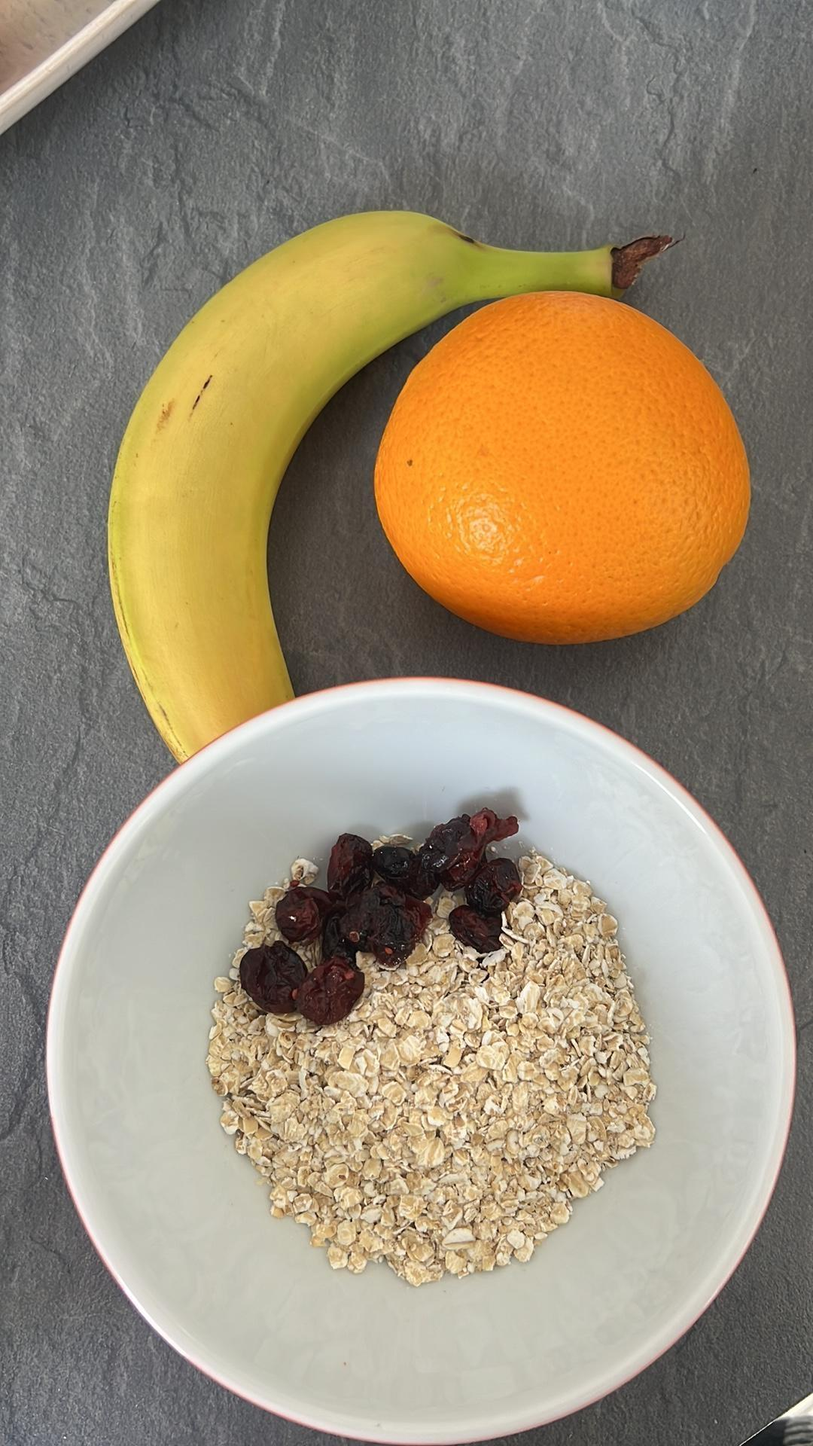banana: (103, 153, 675, 801)
orange: (371, 271, 755, 665)
